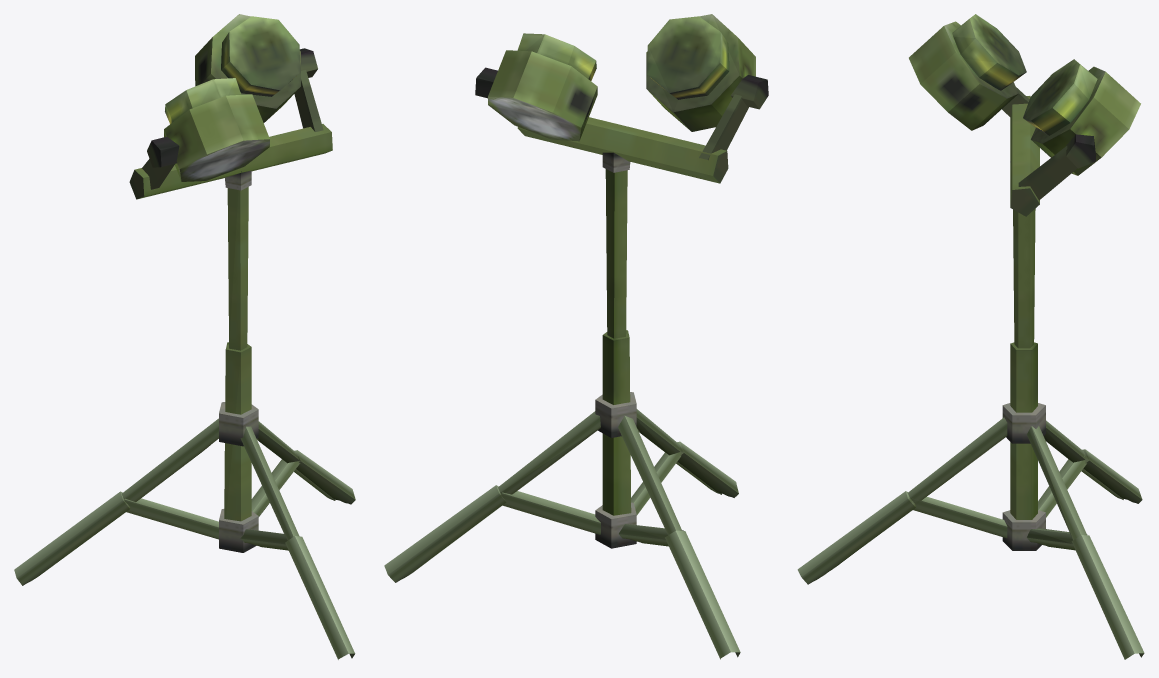
Rendered from C1SMPOLELIGHTWF.obj.
3 views of the same model, side by side, from view 1: azimuth 30°, elevation 25°; view 2: azimuth 150°, elevation 25°; view 3: azimuth 270°, elevation 25° (orthographic). The views are drawn at different scales.
Parts seen in each view (by area): view 1: Node 0, Node 4, Node 2; view 2: Node 0, Node 4, Node 2; view 3: Node 0, Node 2, Node 4.
Boxes of the visible parts, <box> form: Node 0: <box>14,124,355,659</box>; Node 4: <box>142,78,269,189</box>; Node 2: <box>195,14,323,131</box>; Node 0: <box>384,117,740,659</box>; Node 4: <box>646,14,768,160</box>; Node 2: <box>475,33,597,141</box>; Node 0: <box>797,96,1144,659</box>; Node 2: <box>1018,59,1140,200</box>; Node 4: <box>909,14,1029,130</box>.
Size of the model in its own units: 2 by 3.04 by 1.76.
Materials: 3 (3 with a texture image).
